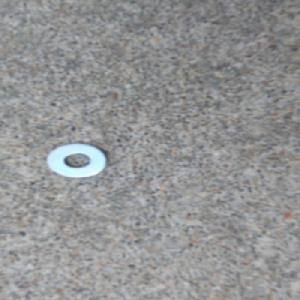Washer: (45, 141, 112, 180)
